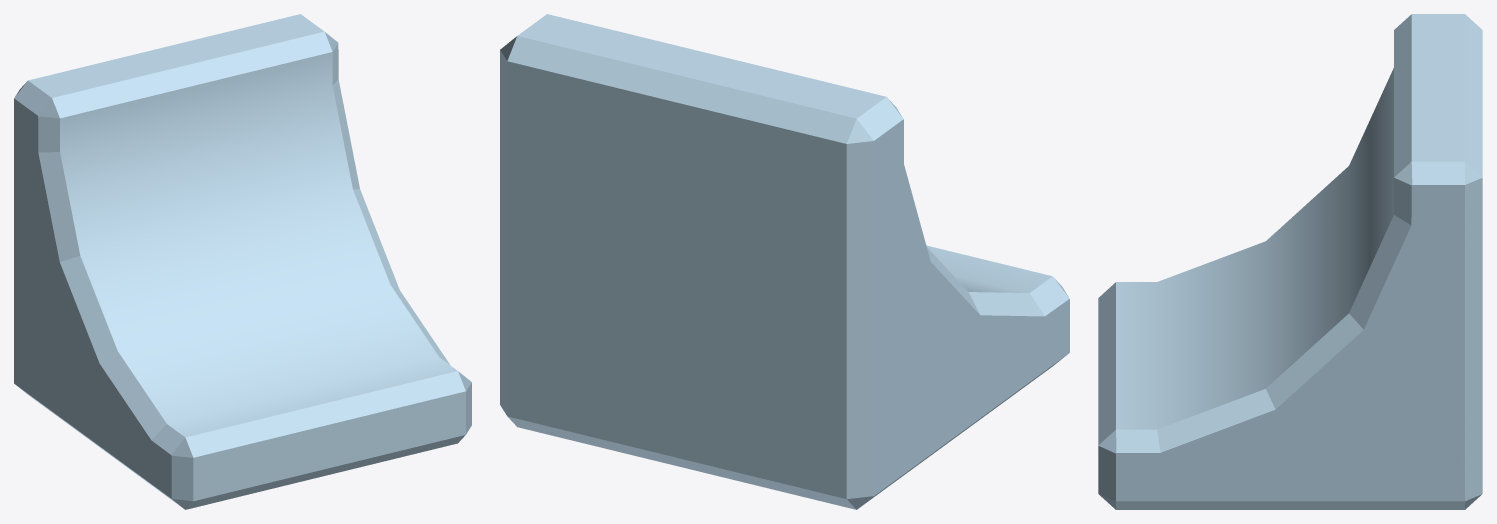
The model's file is R4B_CoveEdge_LOD1.glb.
3 renders of one model, left to right at view 1: azimuth 30°, elevation 25°; view 2: azimuth 150°, elevation 25°; view 3: azimuth 270°, elevation 25°, orthographic. The views are drawn at different scales.
Parts seen in each view (by area): view 1: R4B_CoveEdge_LOD1; view 2: R4B_CoveEdge_LOD1; view 3: R4B_CoveEdge_LOD1.
Boxes of the visible parts, x1=… form: R4B_CoveEdge_LOD1: x1=14, y1=14, x2=471, y2=509; R4B_CoveEdge_LOD1: x1=500, y1=14, x2=1069, y2=509; R4B_CoveEdge_LOD1: x1=1098, y1=14, x2=1482, y2=509.
Size of the model in its own units: 0.52 by 0.52 by 0.52.
